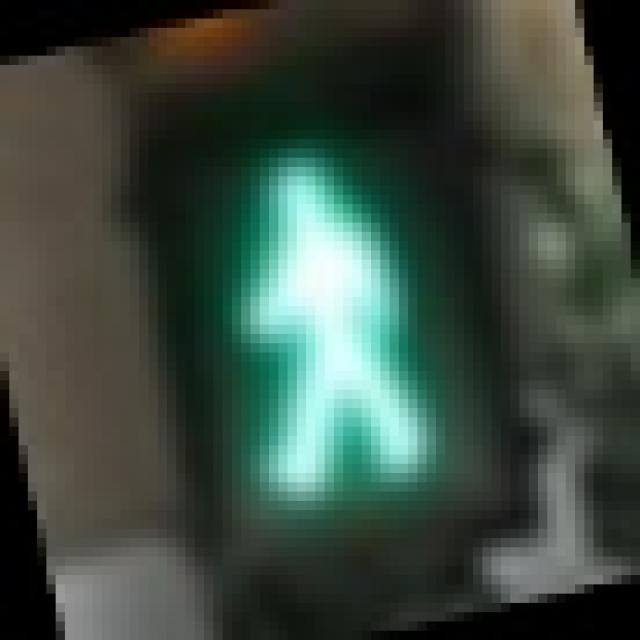geen-crossing: (102, 64, 510, 556)
